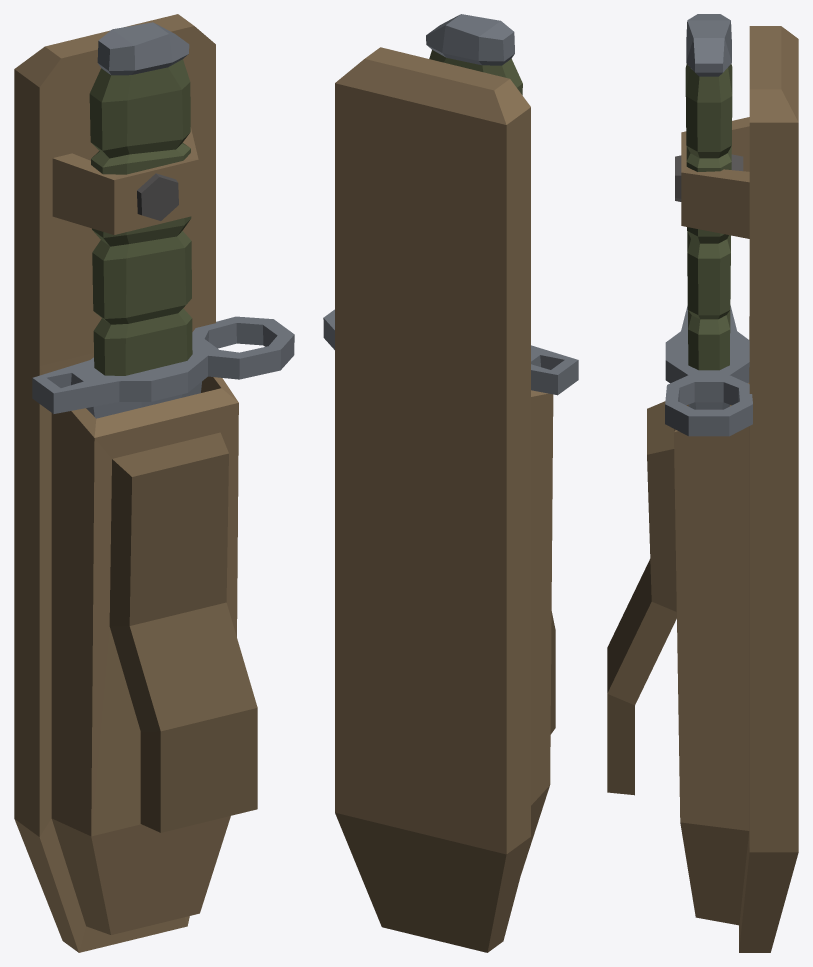
The model's file is SM_Chr_Attach_Knife_Sheath_01.fbx.
3 renders of one model, left to right at view 1: azimuth 30°, elevation 25°; view 2: azimuth 150°, elevation 25°; view 3: azimuth 270°, elevation 25°, orthographic. The views are drawn at different scales.
Parts seen in each view (by area): view 1: SM_Chr_Attach_Knife_Sheath_01; view 2: SM_Chr_Attach_Knife_Sheath_01; view 3: SM_Chr_Attach_Knife_Sheath_01.
Part boxes in pixels (<box>): SM_Chr_Attach_Knife_Sheath_01: <box>14,14,294,952</box>; SM_Chr_Attach_Knife_Sheath_01: <box>323,14,578,952</box>; SM_Chr_Attach_Knife_Sheath_01: <box>607,14,798,952</box>.
Size of the model in its own units: 10.6 by 38.65 by 7.49.
